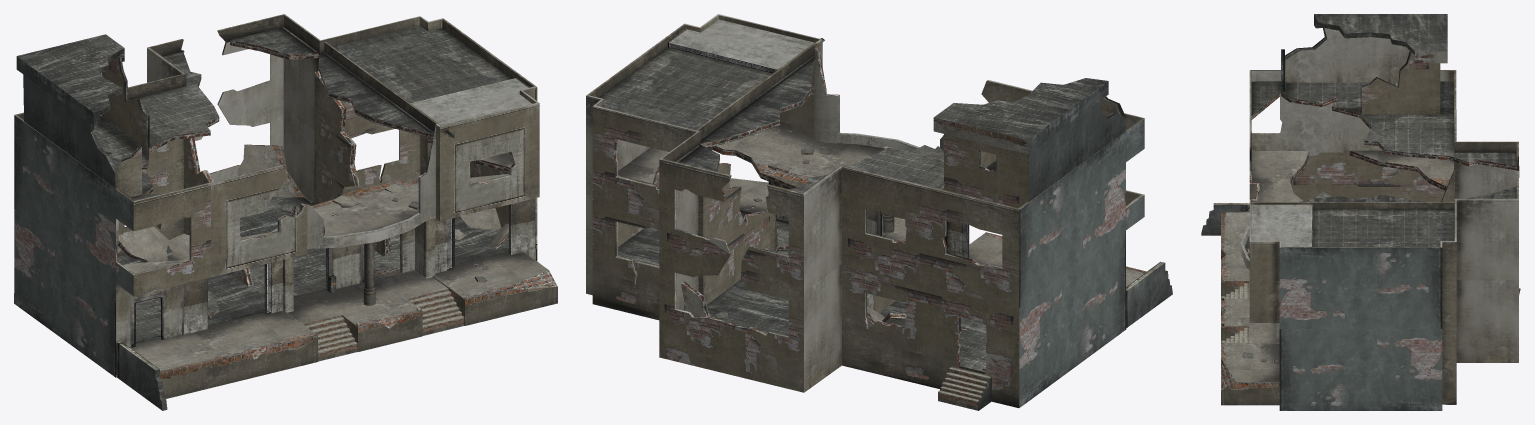
The model's file is buildings_13_ruin.FBX.
The picture shows the model from 3 angles, left to right: view 1: azimuth 30°, elevation 25°; view 2: azimuth 150°, elevation 25°; view 3: azimuth 270°, elevation 25°; orthographic projection. The views are drawn at different scales.
Parts seen in each view (by area): view 1: Box002; view 2: Box002; view 3: Box002.
Boxes of the visible parts, box(x1,y1,x2,y2) form: Box002: box(14, 14, 557, 410); Box002: box(586, 14, 1172, 410); Box002: box(1201, 14, 1520, 410).
Bounding box in the file's own units: 1767 × 1333 × 1007.
1 material, 1 textured.
